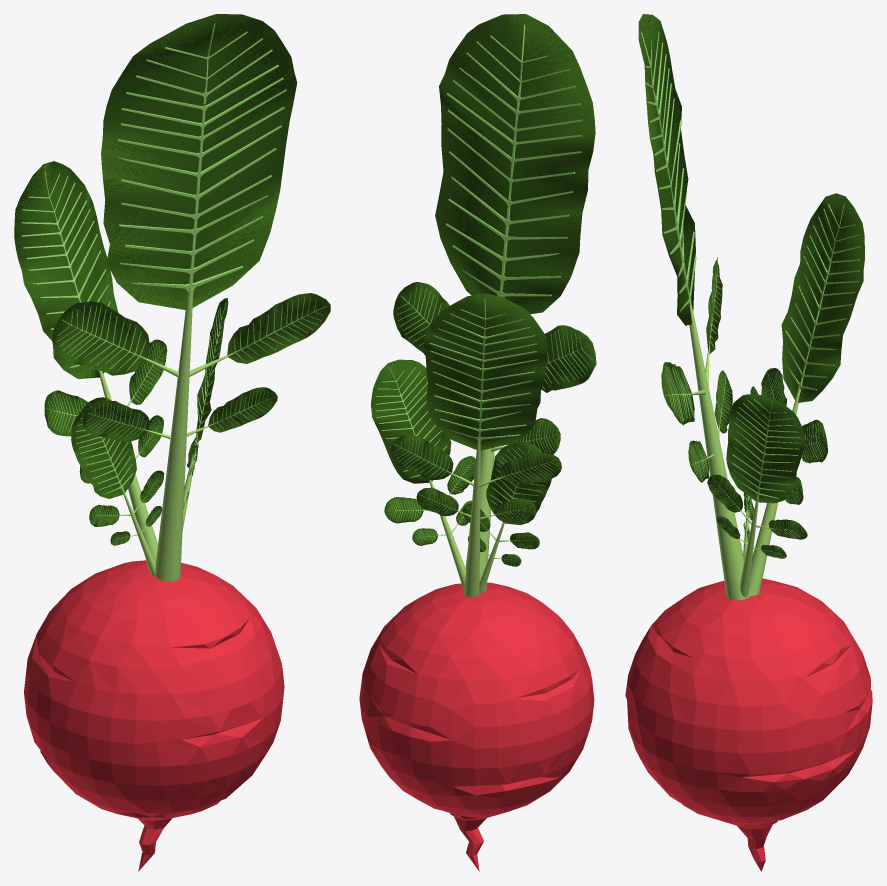
Rendered from radish.fbx.
3 renders of one model, left to right at view 1: azimuth 30°, elevation 25°; view 2: azimuth 150°, elevation 25°; view 3: azimuth 270°, elevation 25°, orthographic. The views are drawn at different scales.
Visible parts, largest first — view 1: Buah.002, Daun.041, Daun.046, Batang.032, Daun.037, CylinderBatang.028, Daun.038, Daun.056, Daun.040, Batang.037, Daun.039, Daun.050 (+7 smaller); view 2: Buah.002, Daun.041, Daun.046, Batang.032, Daun.050, Batang.037, Daun.037, Daun.038, Daun.056, Daun.043, CylinderBatang.033, Daun.042 (+10 smaller); view 3: Buah.002, Daun.046, Daun.041, Daun.050, CylinderBatang.028, Batang.032, Batang.037, Batang.042, Daun.038, CylinderBatang.033, Daun.037, Daun.043 (+7 smaller).
Boxes of the visible parts, box(x1,y1,x2,y2) form: Buah.002: box(24, 560, 284, 871); Daun.041: box(101, 14, 297, 309); Daun.046: box(14, 161, 118, 378); Batang.032: box(117, 23, 286, 292); Daun.037: box(52, 301, 149, 375); CylinderBatang.028: box(155, 287, 193, 581); Daun.038: box(227, 293, 330, 363); Daun.056: box(71, 397, 136, 498); Daun.040: box(82, 400, 149, 441); Batang.037: box(21, 171, 110, 367); Daun.039: box(208, 387, 277, 432); Daun.050: box(196, 298, 228, 442); Buah.002: box(359, 582, 594, 871); Daun.041: box(435, 14, 595, 314); Daun.046: box(423, 293, 547, 450); Batang.032: box(445, 24, 582, 297); Daun.050: box(370, 359, 451, 483); Batang.037: box(429, 299, 537, 447); Daun.037: box(541, 325, 596, 392); Daun.038: box(393, 282, 449, 354); Daun.056: box(486, 441, 551, 524); Daun.043: box(390, 435, 453, 479); CylinderBatang.033: box(464, 439, 480, 596); Daun.042: box(499, 452, 561, 485); Buah.002: box(625, 578, 872, 871); Daun.046: box(781, 193, 864, 402); Daun.041: box(638, 14, 695, 325); Daun.050: box(726, 394, 806, 503); CylinderBatang.028: box(689, 300, 749, 600); Batang.032: box(641, 32, 696, 311); Batang.037: box(785, 203, 860, 390); Batang.042: box(732, 399, 801, 498); Daun.038: box(661, 362, 694, 425); CylinderBatang.033: box(749, 386, 800, 595); Daun.037: box(706, 257, 722, 353); Daun.043: box(801, 419, 827, 463).
Size of the model in its own units: 2140 by 7346 by 1924.
